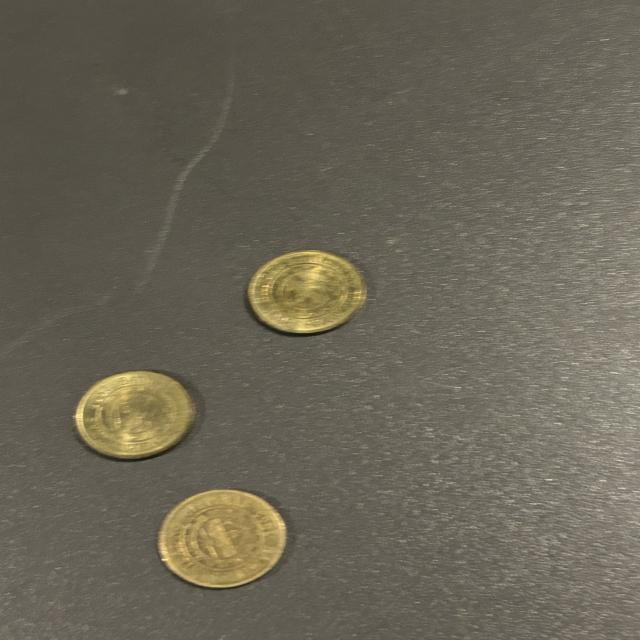25Cent_Old_Back: (165, 497, 275, 576), (260, 256, 364, 326)
